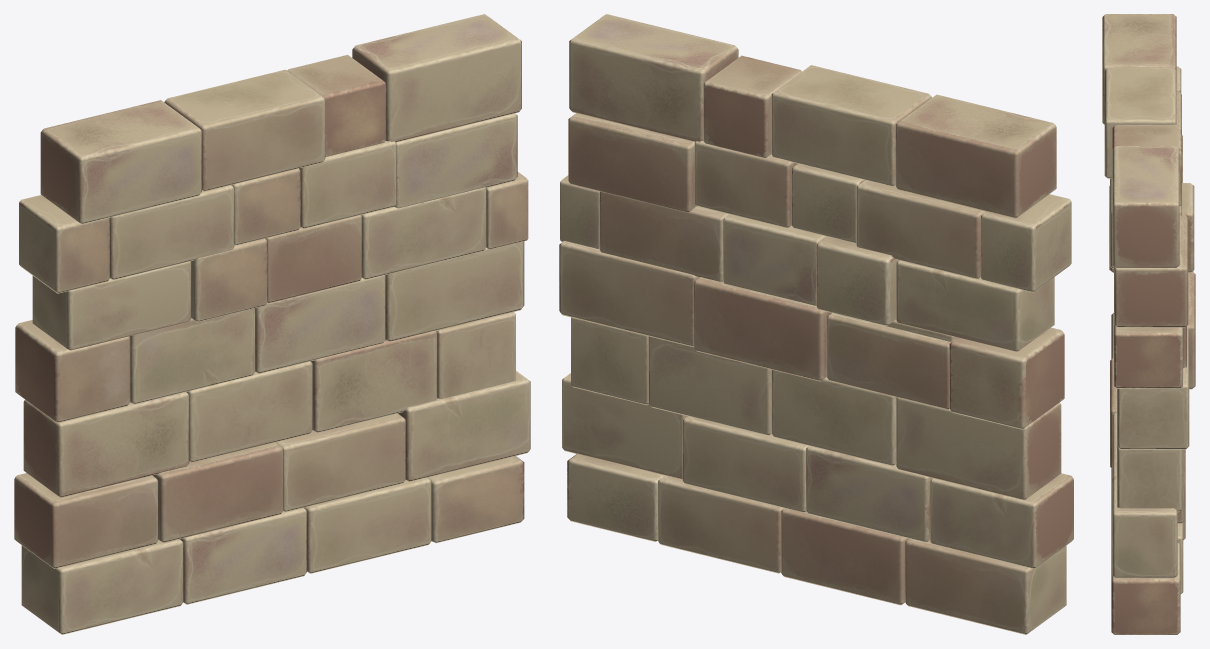
Rendered from exteriorwall.fbx.
3 views of the same model, side by side, from view 1: azimuth 30°, elevation 25°; view 2: azimuth 150°, elevation 25°; view 3: azimuth 270°, elevation 25° (orthographic). The views are drawn at different scales.
Visible parts, largest first — view 1: exterierwall_LOD0; view 2: exterierwall_LOD0; view 3: exterierwall_LOD0.
Part boxes in pixels (bbox=[...]): exterierwall_LOD0: bbox=[14, 14, 530, 634]; exterierwall_LOD0: bbox=[559, 14, 1073, 634]; exterierwall_LOD0: bbox=[1102, 14, 1195, 634].
Bounding box in the file's own units: 3.08 × 2.97 × 0.5803.
